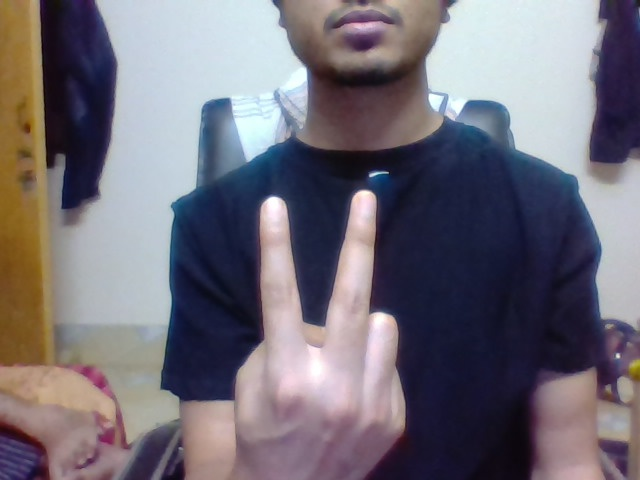V: (254, 188, 386, 336)
